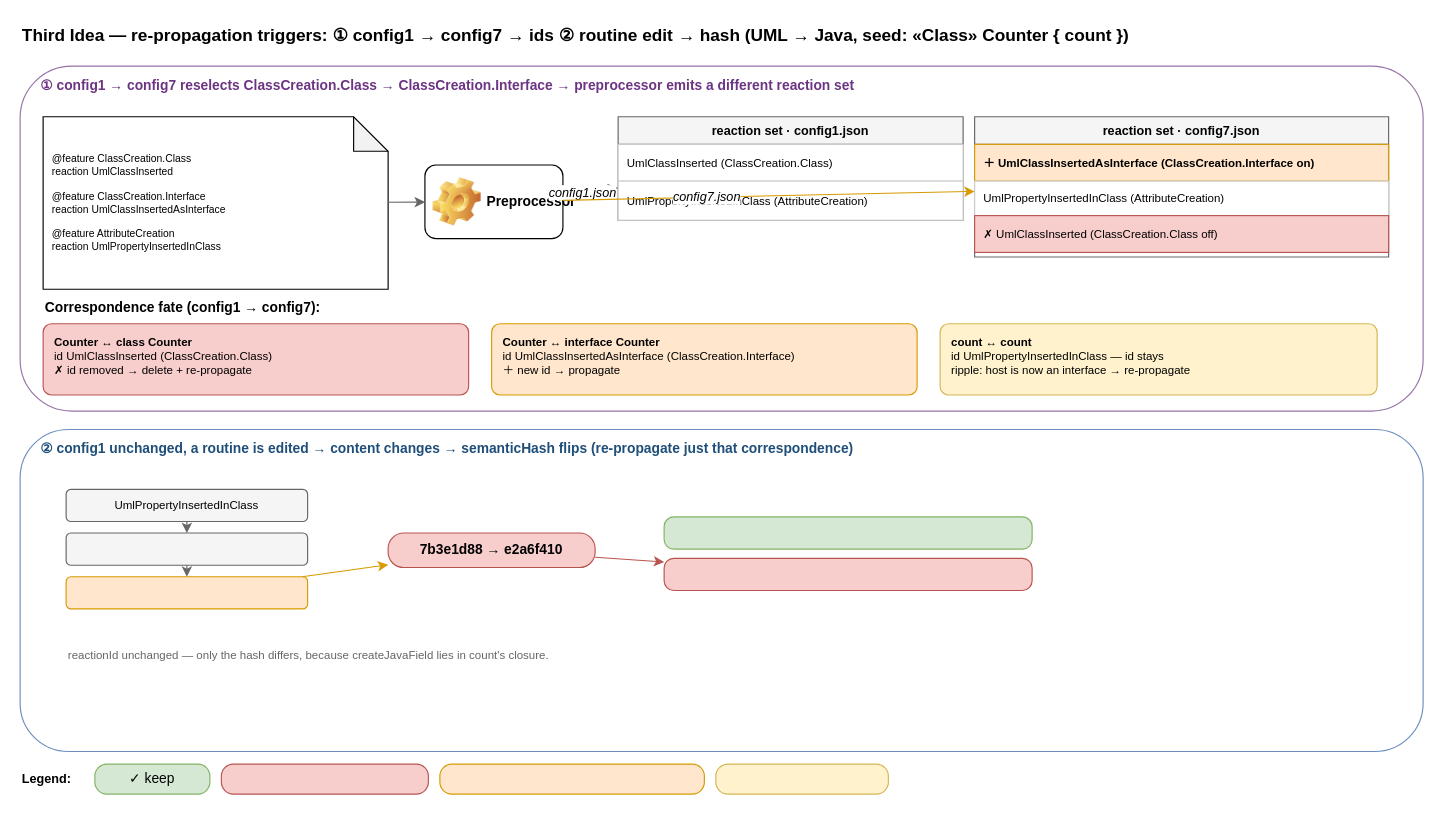
Some shapes in this 1443 by 814 pixel diagram are drawn without their labels. The box of each missing label's shape, as (x1, y1, x2, y2) in pixels:
count ↔ count ✗ delete + re-propagate: (663, 557, 1032, 591)
Counter ↔ Counter ✓ unaffected: (663, 516, 1032, 549)
createOrFindJavaField: (65, 532, 308, 565)
ripple / hash bump: (715, 763, 888, 794)
✎ createJavaField (edited): (65, 576, 308, 609)
✗ delete + re-propagate: (220, 763, 428, 794)
＋ new id / edited rule → propagate: (439, 763, 704, 794)
